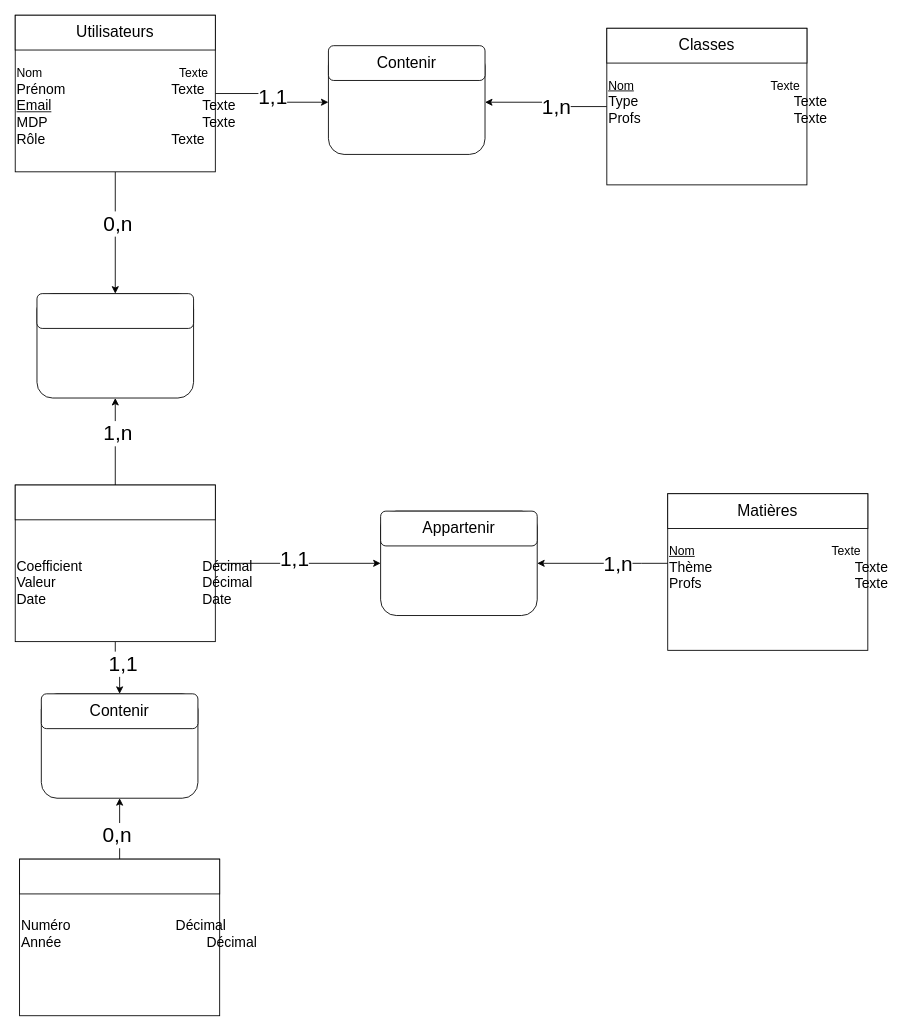
This 904x1031 diagram has some shape labels left out. Each missing label, with the centre of its shape:
Notes: point 114,502
Possèder: point 115,310
Trimestres: point 119,876
